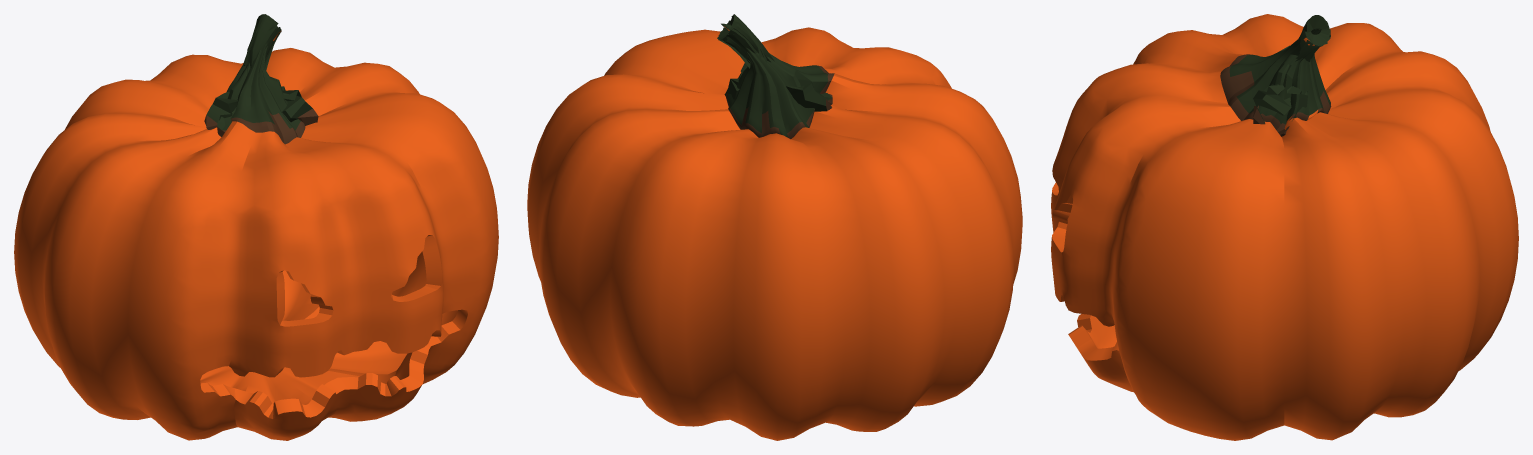
Rendered from citrouille_anastasia_gawryluk.fbx.
3 renders of one model, left to right at view 1: azimuth 30°, elevation 25°; view 2: azimuth 150°, elevation 25°; view 3: azimuth 270°, elevation 25°, orthographic. The views are drawn at different scales.
Parts seen in each view (by area): view 1: Sphere; view 2: Sphere; view 3: Sphere.
Boxes of the visible parts, x1,y1,x2,y2 form: Sphere: [14, 14, 498, 440]; Sphere: [527, 14, 1022, 440]; Sphere: [1051, 14, 1518, 440].
Size of the model in its own units: 213 by 171 by 195.
